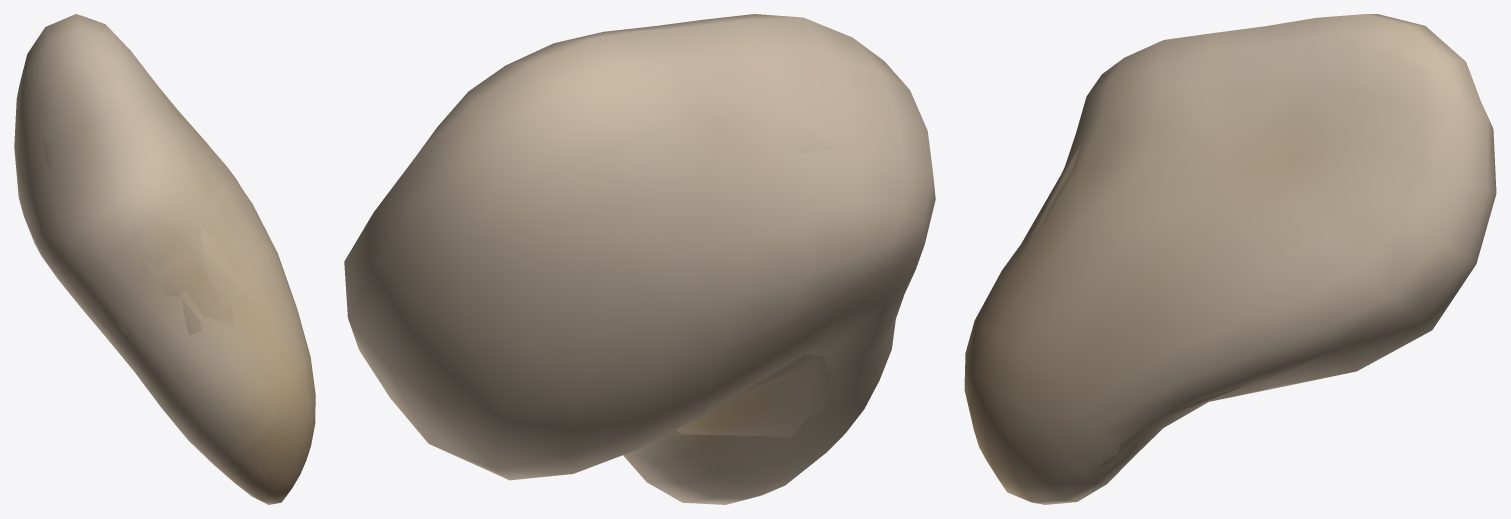
Rendered from R carpi accessorium.fbx.
3 renders of one model, left to right at view 1: azimuth 30°, elevation 25°; view 2: azimuth 150°, elevation 25°; view 3: azimuth 270°, elevation 25°, orthographic. The views are drawn at different scales.
Visible parts, largest first — view 1: R carpi accessorium, R carpi accessorium low; view 2: R carpi accessorium, R carpi accessorium low; view 3: R carpi accessorium, R carpi accessorium low.
Boxes of the visible parts, <box> form: R carpi accessorium: <box>14,14,315,504</box>; R carpi accessorium low: <box>42,122,257,335</box>; R carpi accessorium: <box>344,14,935,504</box>; R carpi accessorium low: <box>676,67,831,437</box>; R carpi accessorium: <box>964,14,1496,504</box>; R carpi accessorium low: <box>1022,146,1244,466</box>.
Bounding box in the file's own units: 2.57 × 3.82 × 4.03.
